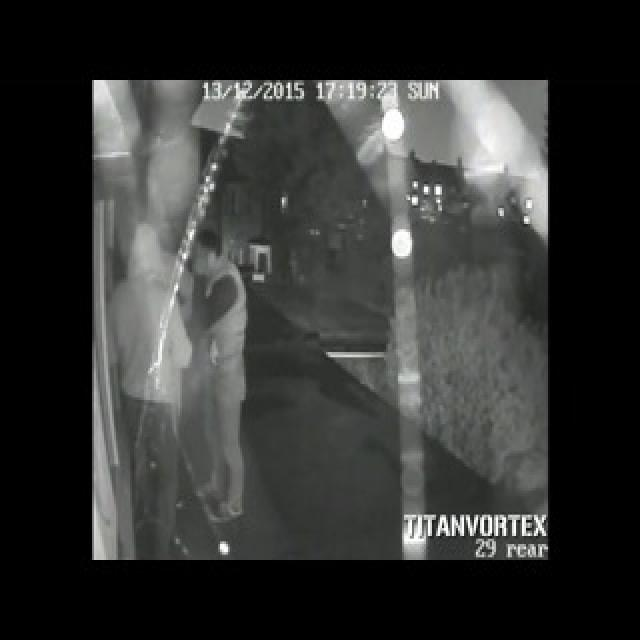thief: (122, 220, 229, 316)
